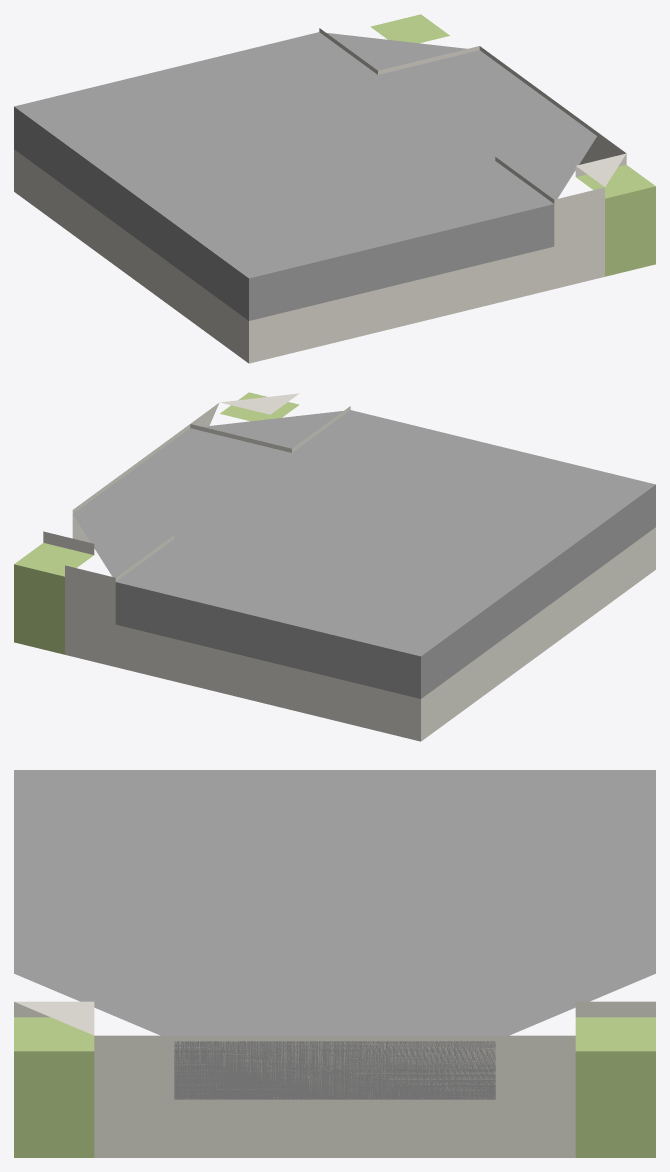
File: roadtile-030.glb
3 views of the same model, one above another, from view 1: azimuth 30°, elevation 25°; view 2: azimuth 150°, elevation 25°; view 3: azimuth 270°, elevation 25° (orthographic). The views are drawn at different scales.
Visible parts, largest first — view 1: Mesh1 Group1 Model; view 2: Mesh1 Group1 Model; view 3: Mesh1 Group1 Model.
Part boxes in pixels (<box>): Mesh1 Group1 Model: <box>14,14,655,363</box>; Mesh1 Group1 Model: <box>14,392,655,741</box>; Mesh1 Group1 Model: <box>14,770,655,1157</box>.
Size of the model in its own units: 3 by 0.63 by 3.
